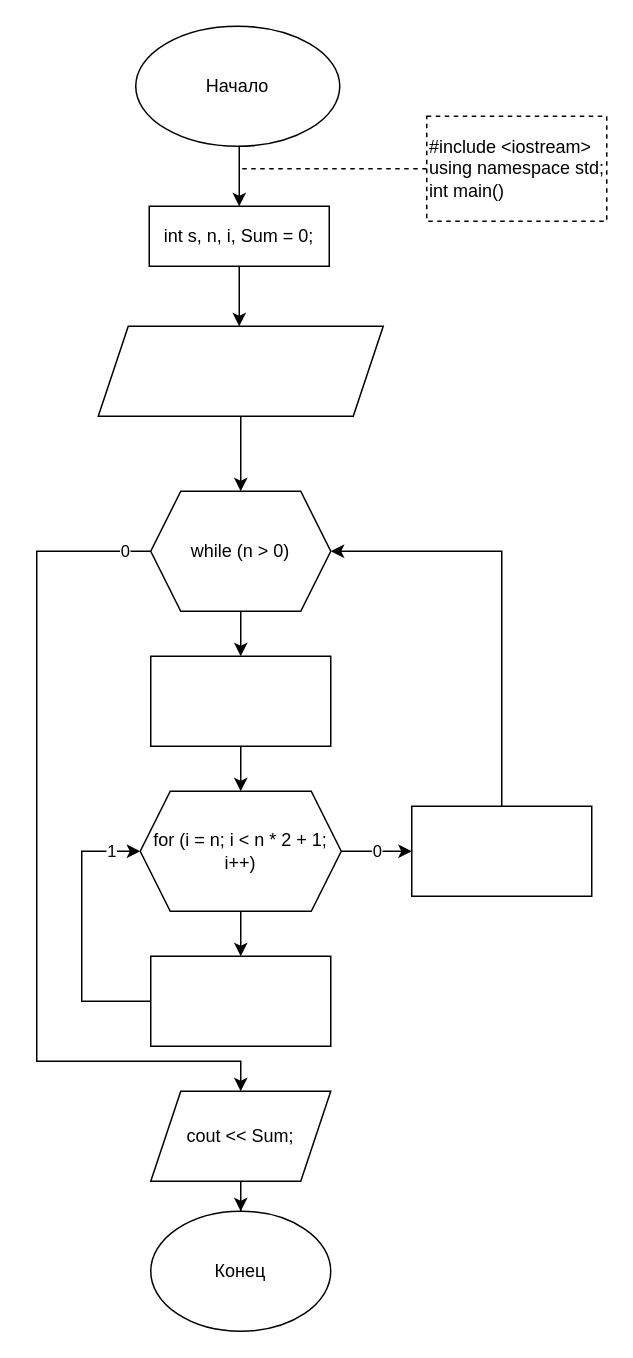
This 633x1358 diagram has some shape labels left out. The shapes that lost their labels are listed below. From the top down, each one's centre as x and y in pixels, then its label:
At (x=240, y=370): "cin >> n;".
At (x=240, y=700): "s = 1;".
At (x=501, y=850): "n -= 1; Sum += s;".
At (x=240, y=1000): "s = s * i;".
